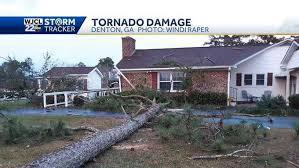minor: (114, 36, 299, 110)
